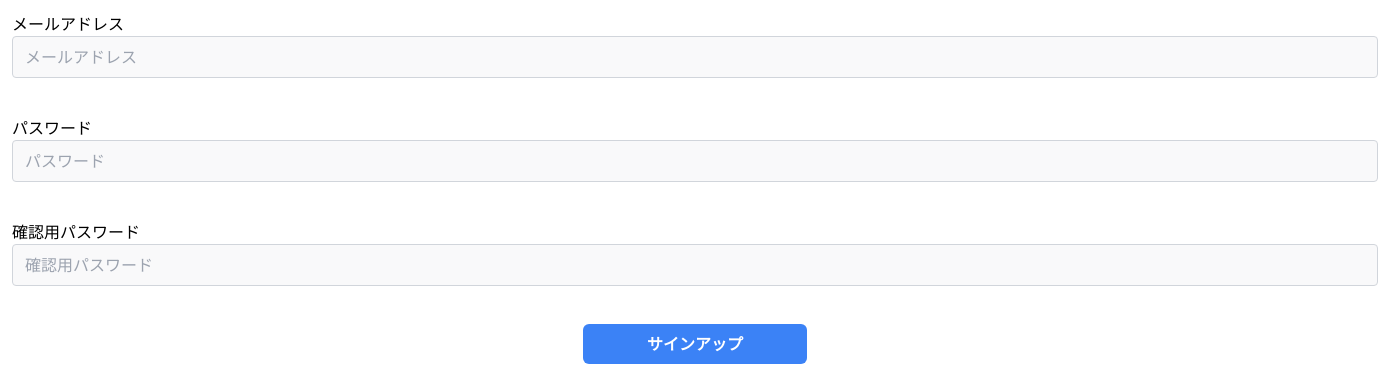
Test: TripSignupForm › パスワードと確認様パスワードの一致バリデーション › エラーメッセージが表示されること
This screenshot has width=1390, height=381.
Type "pass" into the password field with placeholder "パスワード" at point(695, 161), box [12,140,1378,182]
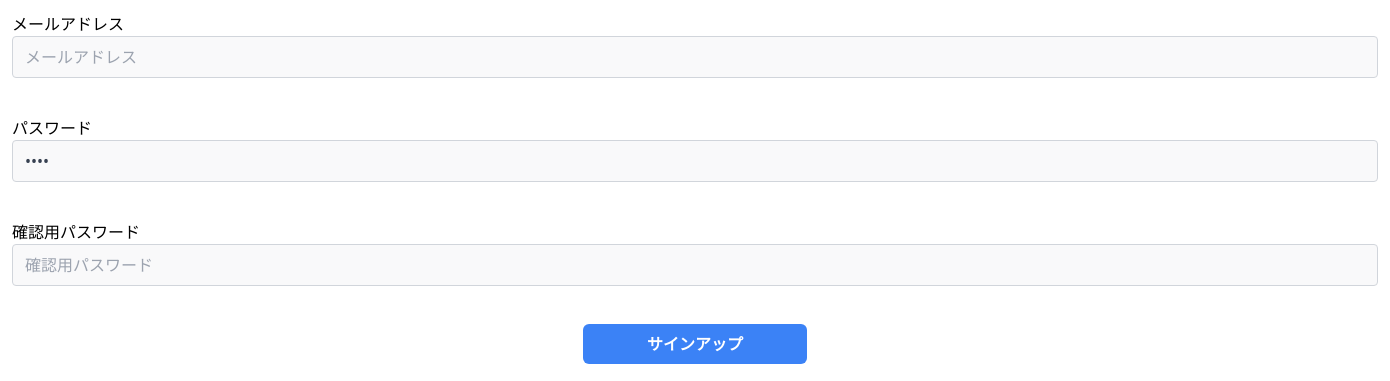
Type "confirmpass" into the password field with placeholder "確認用パスワード" at point(695, 265), box [12,244,1378,286]
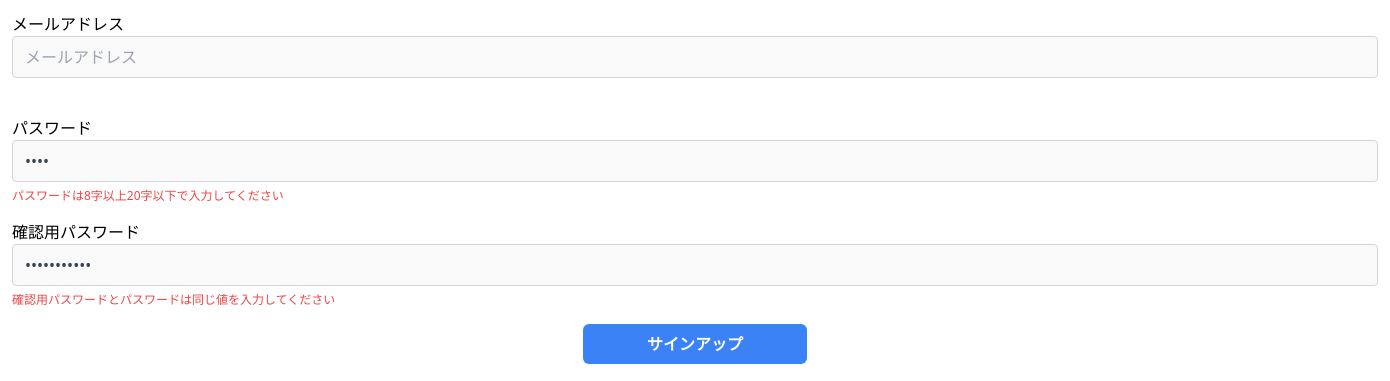
Now the text "確認用パスワードとパスワードは同じ値を入力してください" is shown, box [12,291,335,308]
